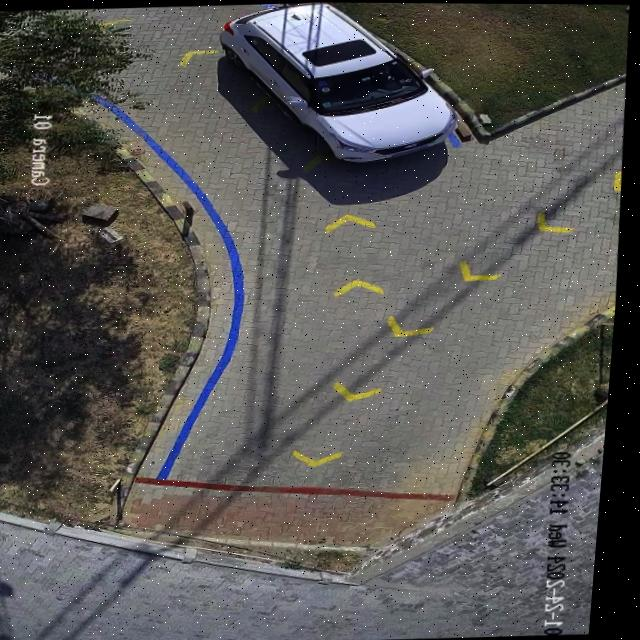car: (220, 2, 456, 162)
